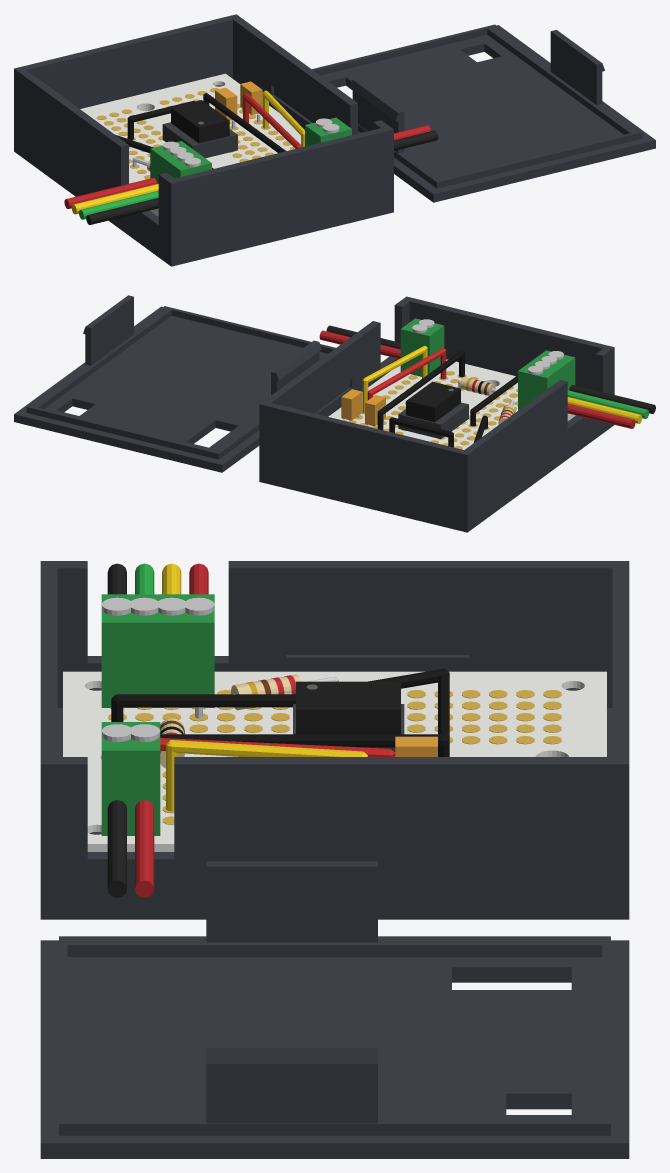
Rendered from lid-off.glb.
The picture shows the model from 3 angles, top to bottom: view 1: azimuth 30°, elevation 25°; view 2: azimuth 150°, elevation 25°; view 3: azimuth 270°, elevation 25°; orthographic projection. The views are drawn at different scales.
Parts seen in each view (by area): view 1: ATtiny85 speed limiter, lid off; view 2: ATtiny85 speed limiter, lid off; view 3: ATtiny85 speed limiter, lid off.
Boxes of the visible parts, left/top/right/bottom form: ATtiny85 speed limiter, lid off: left=14, top=14, right=655, bottom=266; ATtiny85 speed limiter, lid off: left=14, top=295, right=655, bottom=532; ATtiny85 speed limiter, lid off: left=40, top=561, right=629, bottom=1158.
Bounding box in the file's own units: 0.1103 × 0.016 × 0.055.
